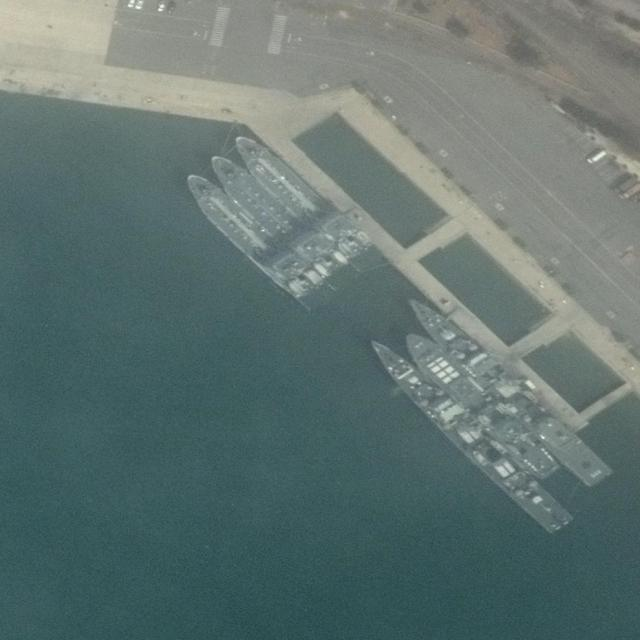Frigate: (396, 285, 612, 490), (360, 333, 575, 535)
Landing: (226, 125, 388, 281), (174, 167, 338, 318), (199, 149, 357, 296)
Other Warship: (395, 326, 562, 484)
